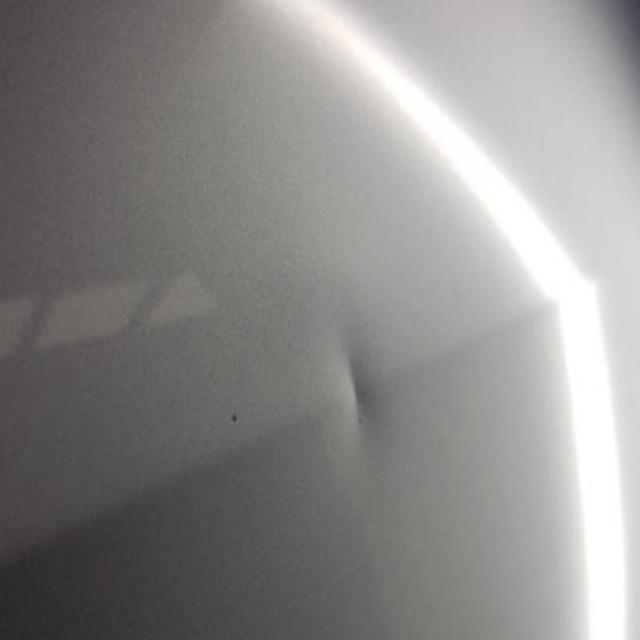dents: (332, 308, 404, 481)
